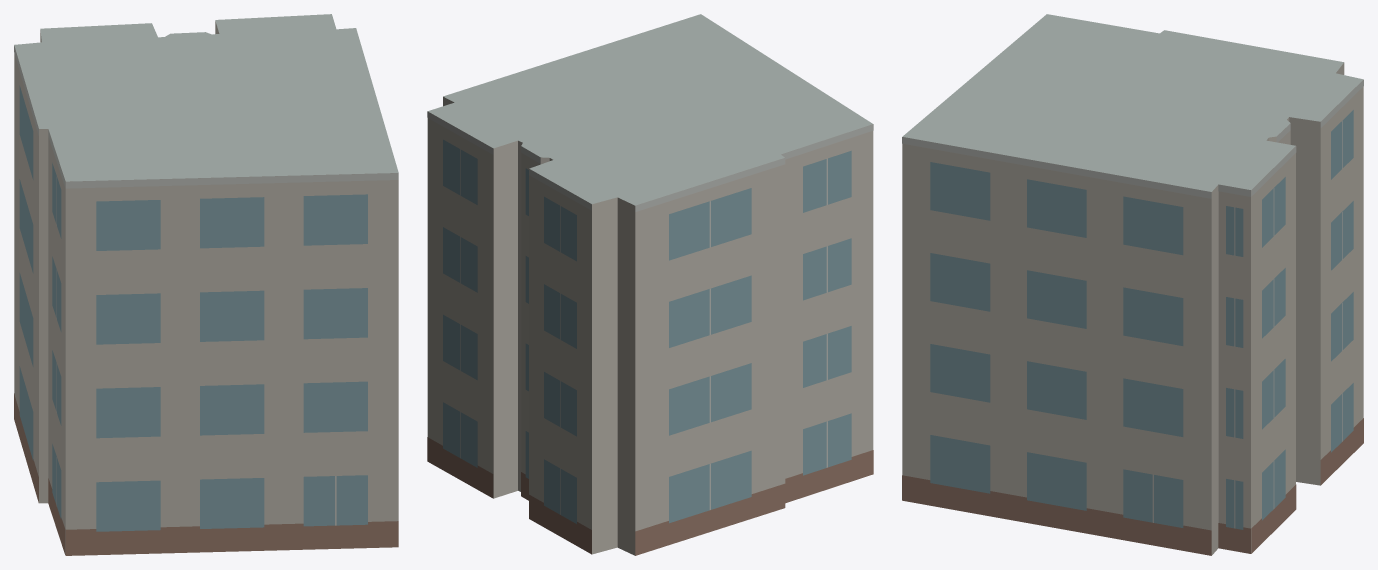
The model's file is survey-upis-32975621.glb.
3 views of the same model, side by side, from view 1: azimuth 30°, elevation 25°; view 2: azimuth 150°, elevation 25°; view 3: azimuth 270°, elevation 25° (orthographic). The views are drawn at different scales.
Parts seen in each view (by area): view 1: survey-upis-32975621.tmp; view 2: survey-upis-32975621.tmp; view 3: survey-upis-32975621.tmp.
Boxes of the visible parts, x1=… form: survey-upis-32975621.tmp: x1=14, y1=14, x2=398, y2=555; survey-upis-32975621.tmp: x1=427, y1=14, x2=873, y2=555; survey-upis-32975621.tmp: x1=902, y1=14, x2=1363, y2=555.
Bounding box in the file's own units: 13.65 × 13 × 14.96.
